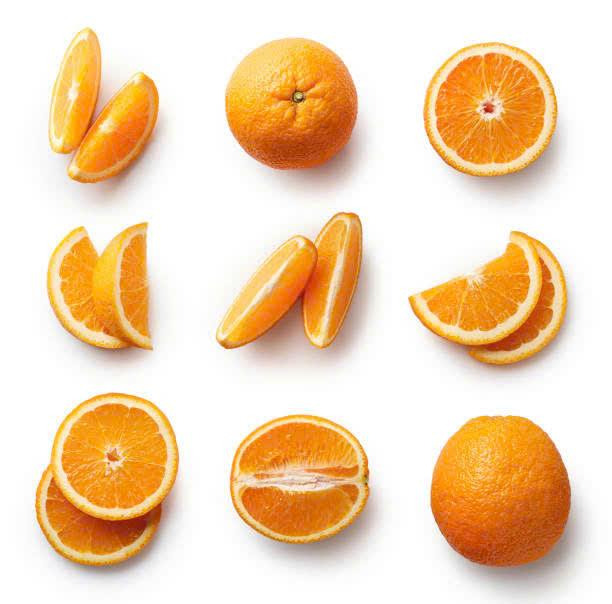orange: (413, 229, 586, 395), (17, 386, 175, 559), (213, 14, 375, 181), (411, 416, 573, 572), (217, 413, 391, 556), (237, 197, 373, 369), (19, 219, 178, 365), (419, 34, 559, 179), (36, 6, 147, 179)
